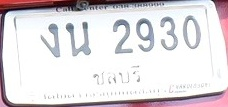txt05: (39, 22, 61, 59)
txt20: (64, 21, 92, 57)
